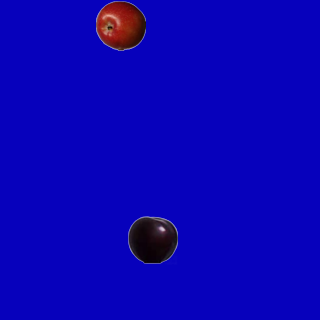Apple Braeburn: (95, 0, 145, 50)
Cherry Wax Black: (127, 214, 177, 264)
